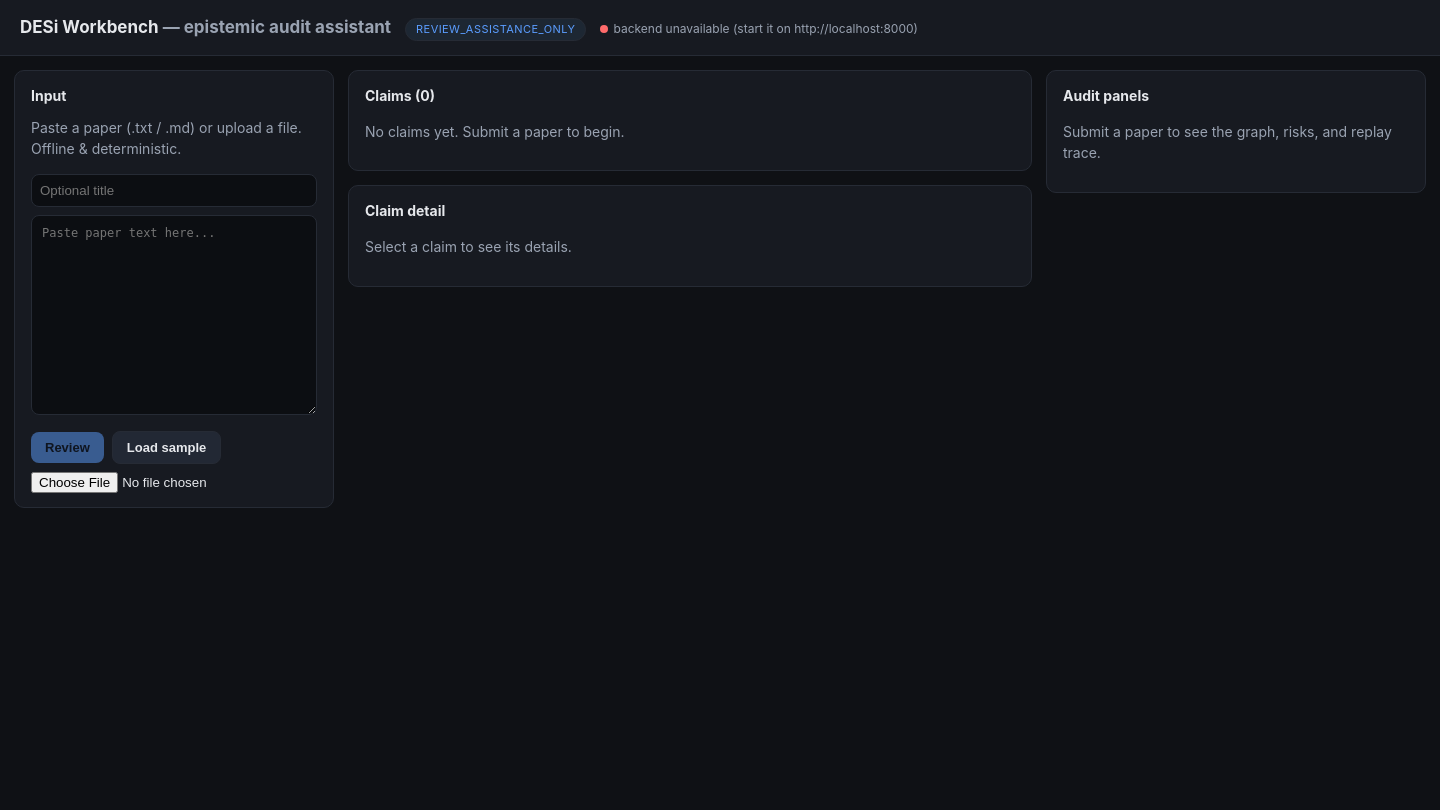
Test: DESi Workbench app › submits sample text, shows claims and a report link
Click the button "Load sample".
click(167, 447)  # box [112,431,221,464]
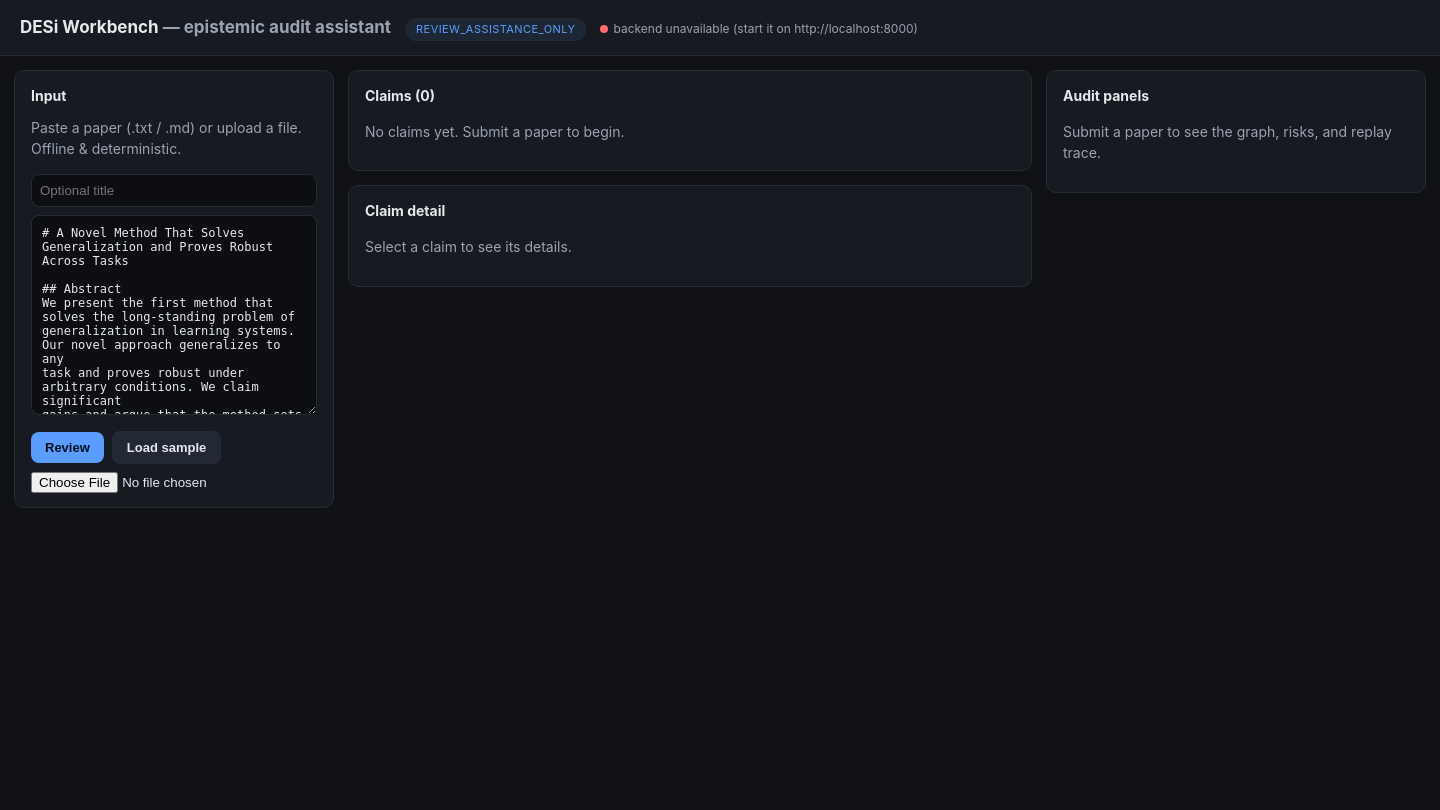
Click the button "Review".
click(67, 447)  # box [31,432,104,463]
(page scrolled)
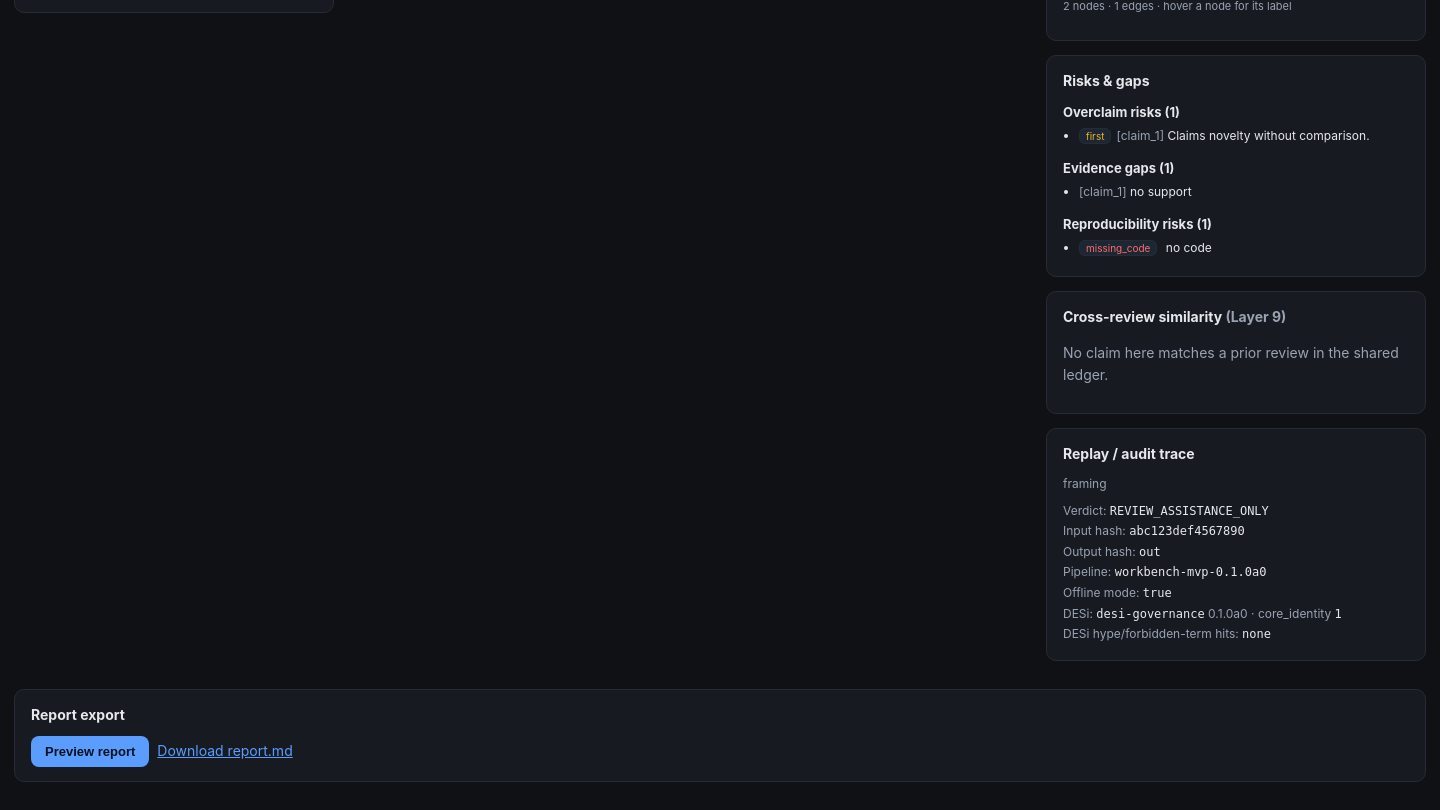
expect the link "Download report.md" is shown: met, box [157,740,293,762]
